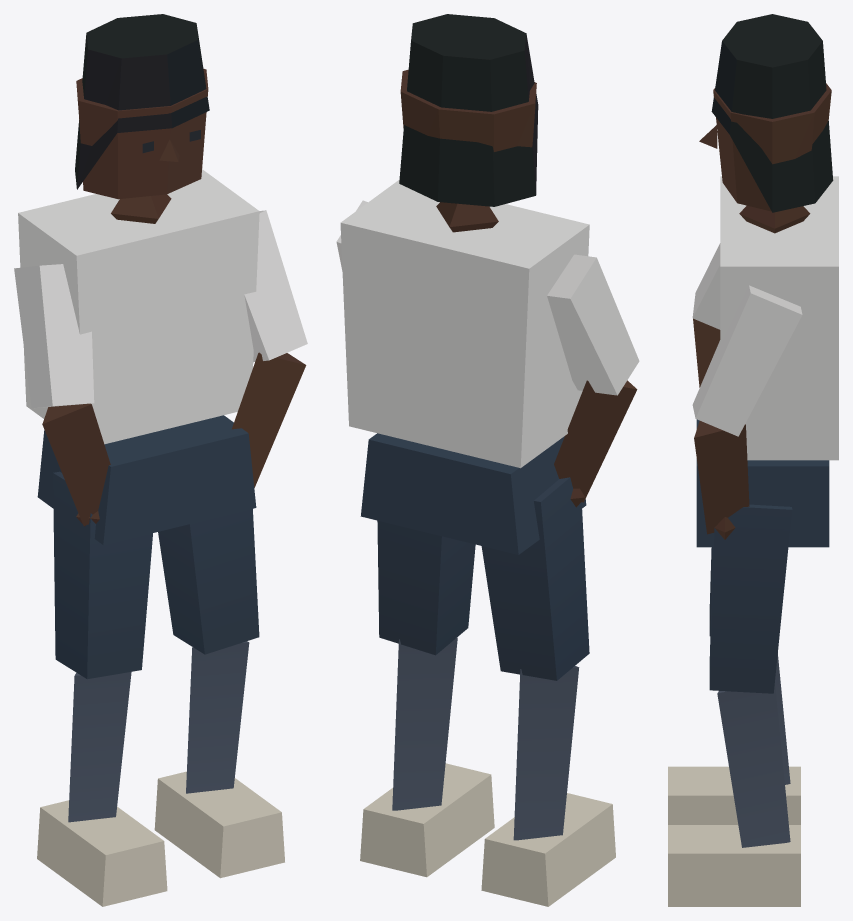
The model's file is fan-10.glb.
The picture shows the model from 3 angles, left to right: view 1: azimuth 30°, elevation 25°; view 2: azimuth 150°, elevation 25°; view 3: azimuth 270°, elevation 25°; orthographic projection. The views are drawn at different scales.
Parts seen in each view (by area): view 1: fan-10; view 2: fan-10; view 3: fan-10.
Boxes of the visible parts, <box> form: fan-10: <box>14,14,307,906</box>; fan-10: <box>336,14,639,906</box>; fan-10: <box>668,14,838,906</box>.
Bounding box in the file's own units: 0.639 × 1.91 × 0.36.
